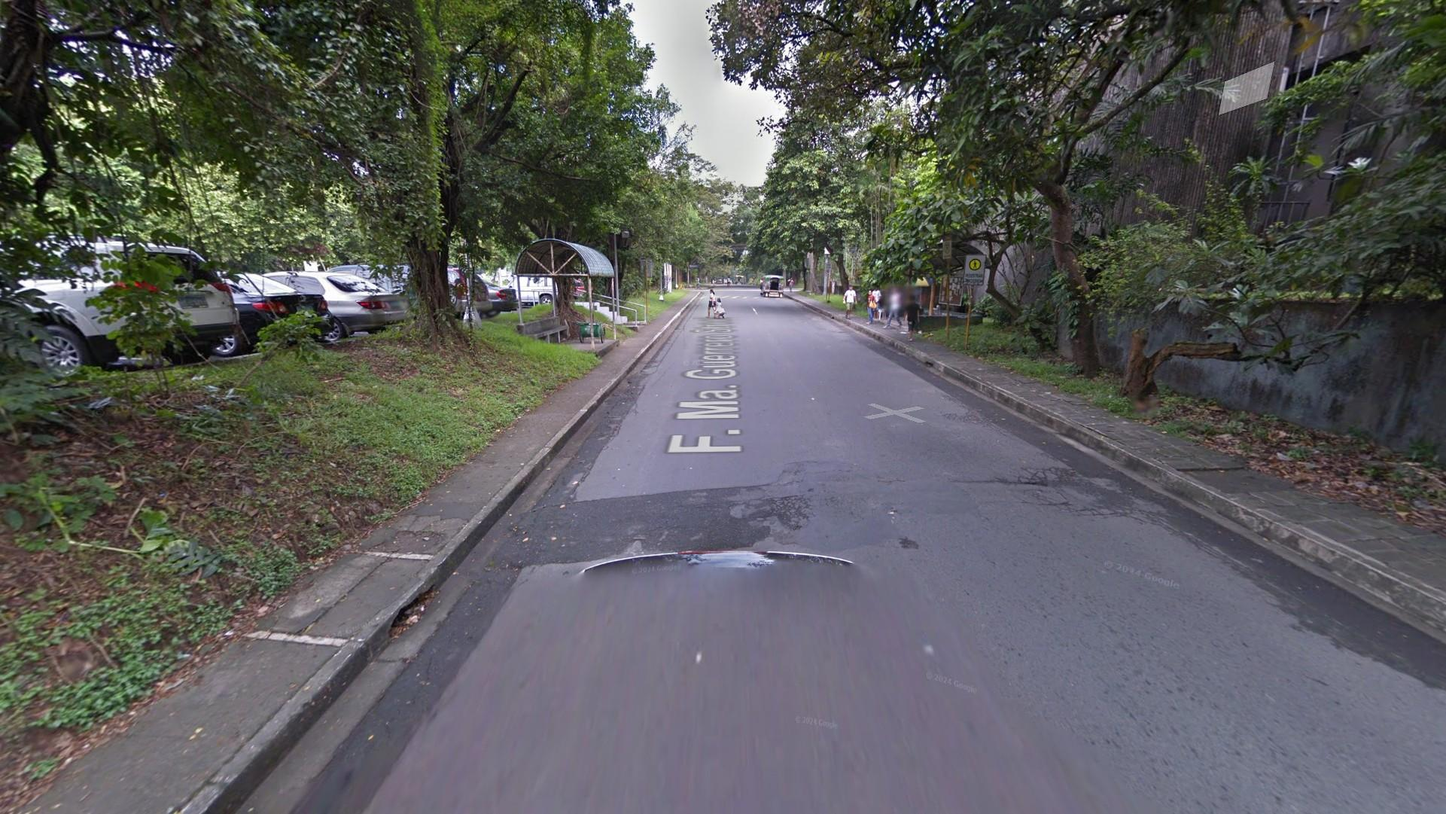pedestrian: (903, 293, 921, 342), (883, 286, 902, 330), (842, 285, 857, 320), (871, 284, 882, 320), (866, 290, 875, 326), (706, 289, 716, 319), (714, 297, 725, 319), (788, 276, 794, 292), (726, 275, 732, 287), (696, 276, 701, 290)
